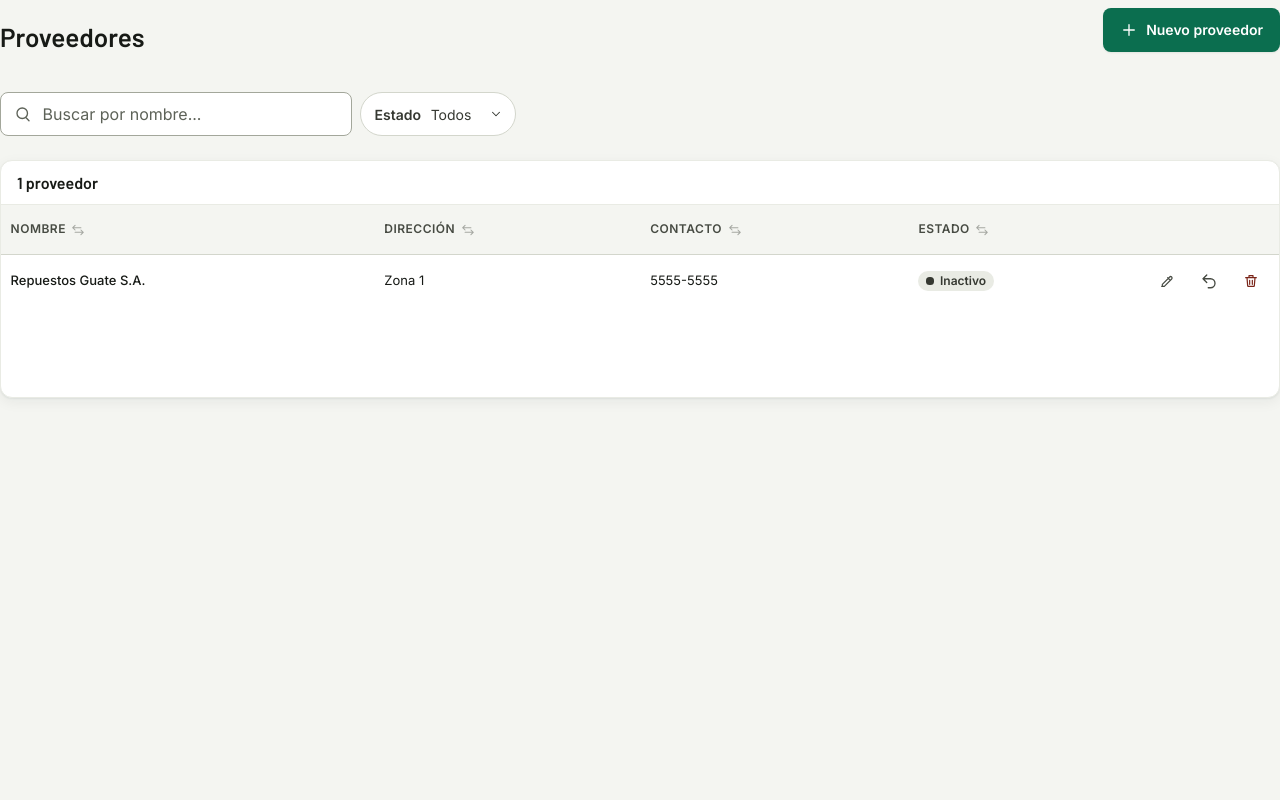
Test: ProveedoresPage › muestra el mensaje del backend si el proveedor tiene historial asociado
Click the button named "eliminar".
click(1251, 281)  # box [1233,259,1269,303]
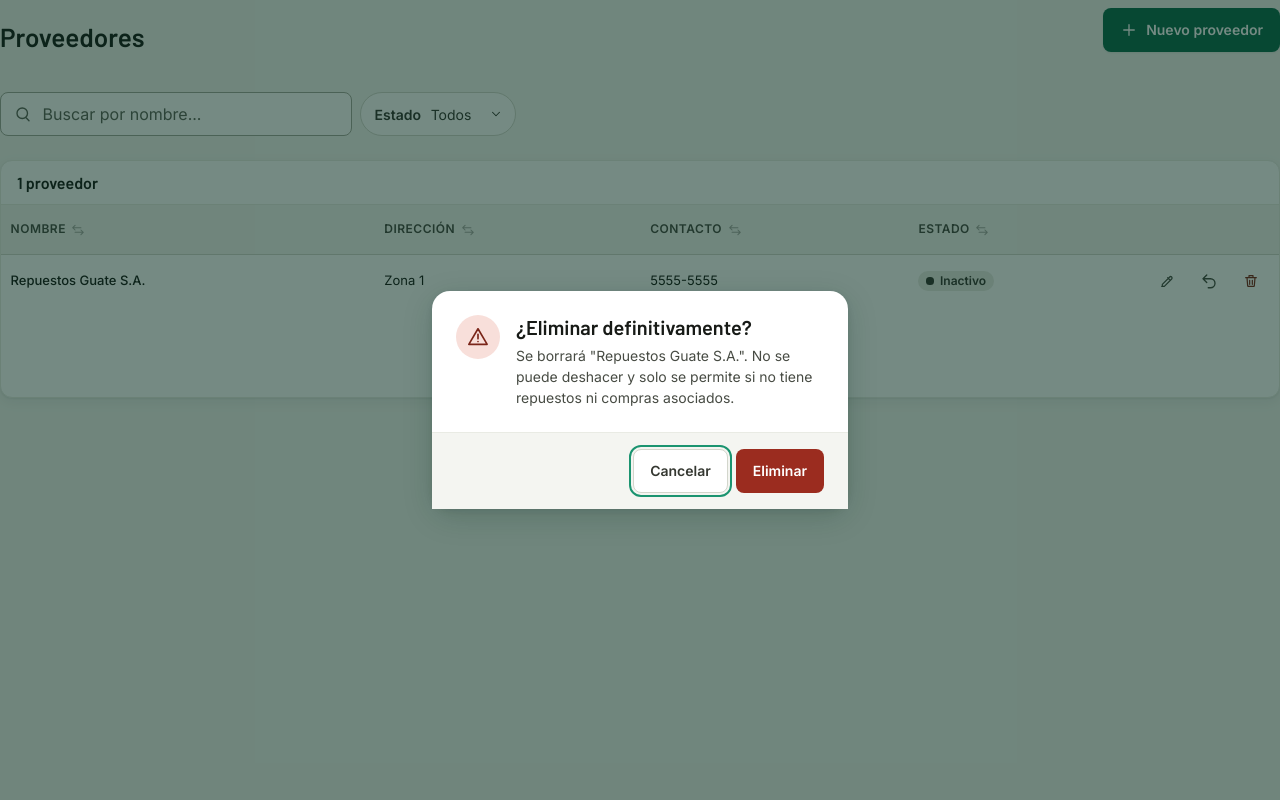
Click the button "Eliminar".
click(780, 471)  # box [736,449,824,493]
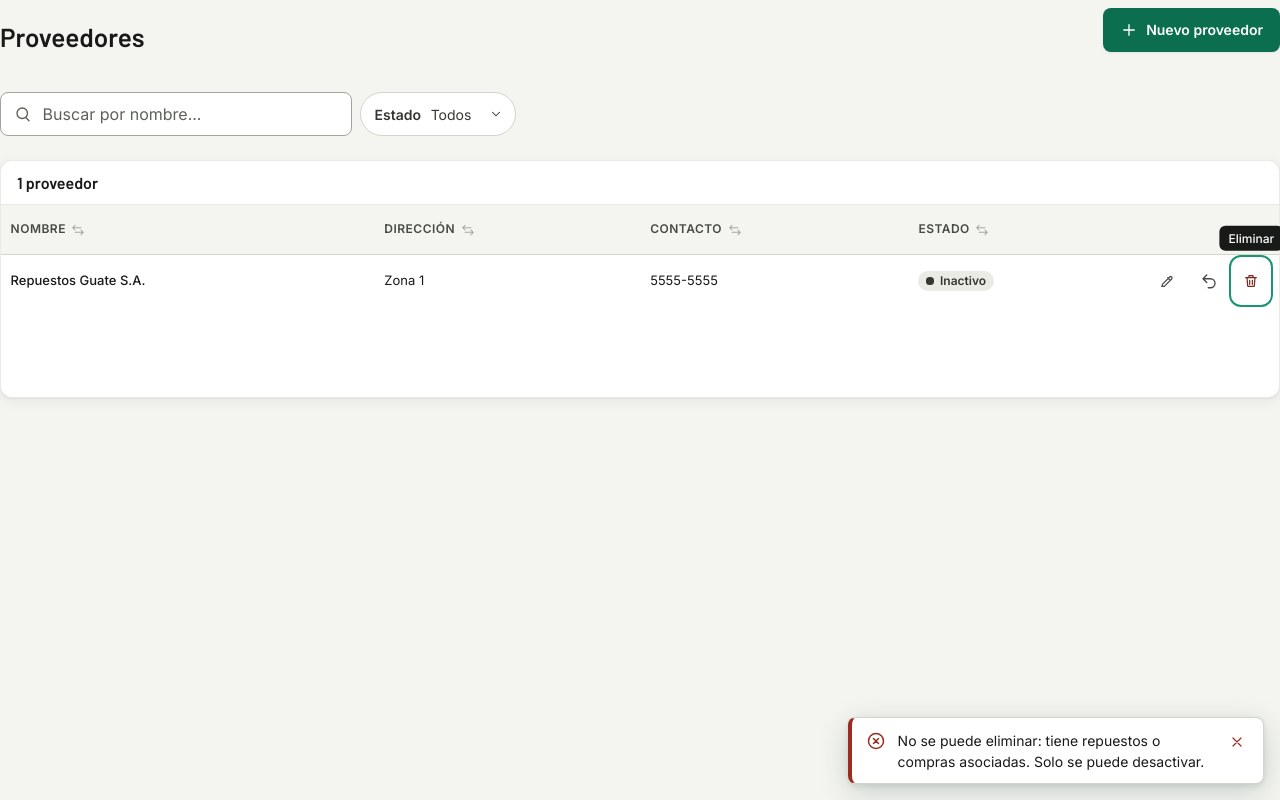
Expected: the text "Repuestos Guate S.A." is shown, [1,255,375,307]
Now the message shows "No se puede eliminar: tiene repuestos o compras asociadas. Solo se puede desactivar.", box [898,732,1204,770]
